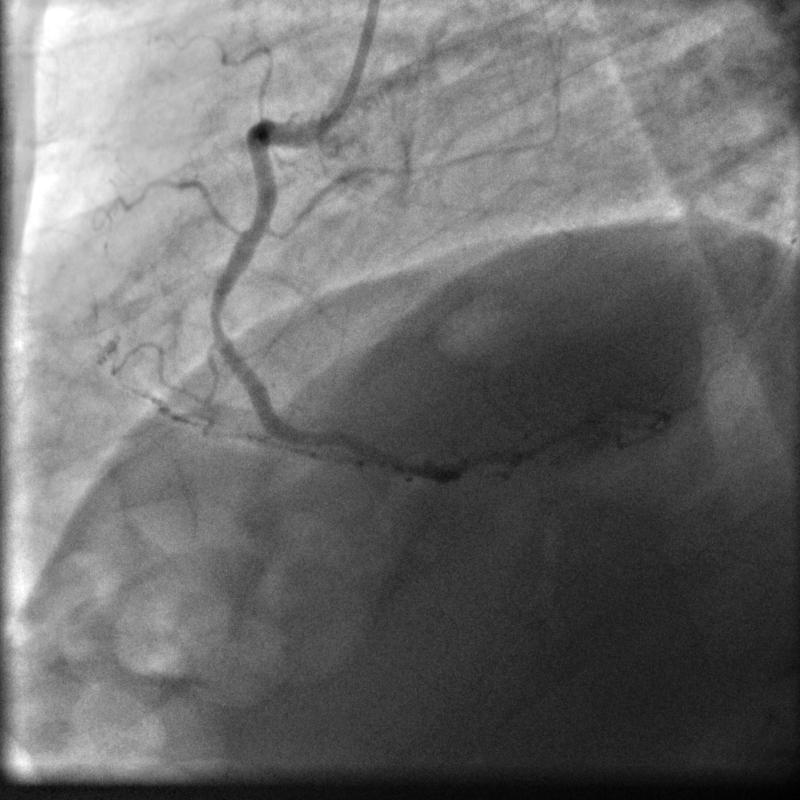Stenosis: (203, 301, 225, 329)
